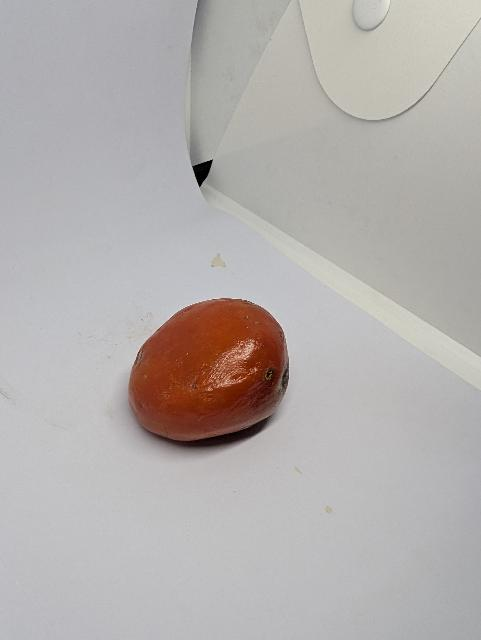defect: (126, 296, 295, 449)
